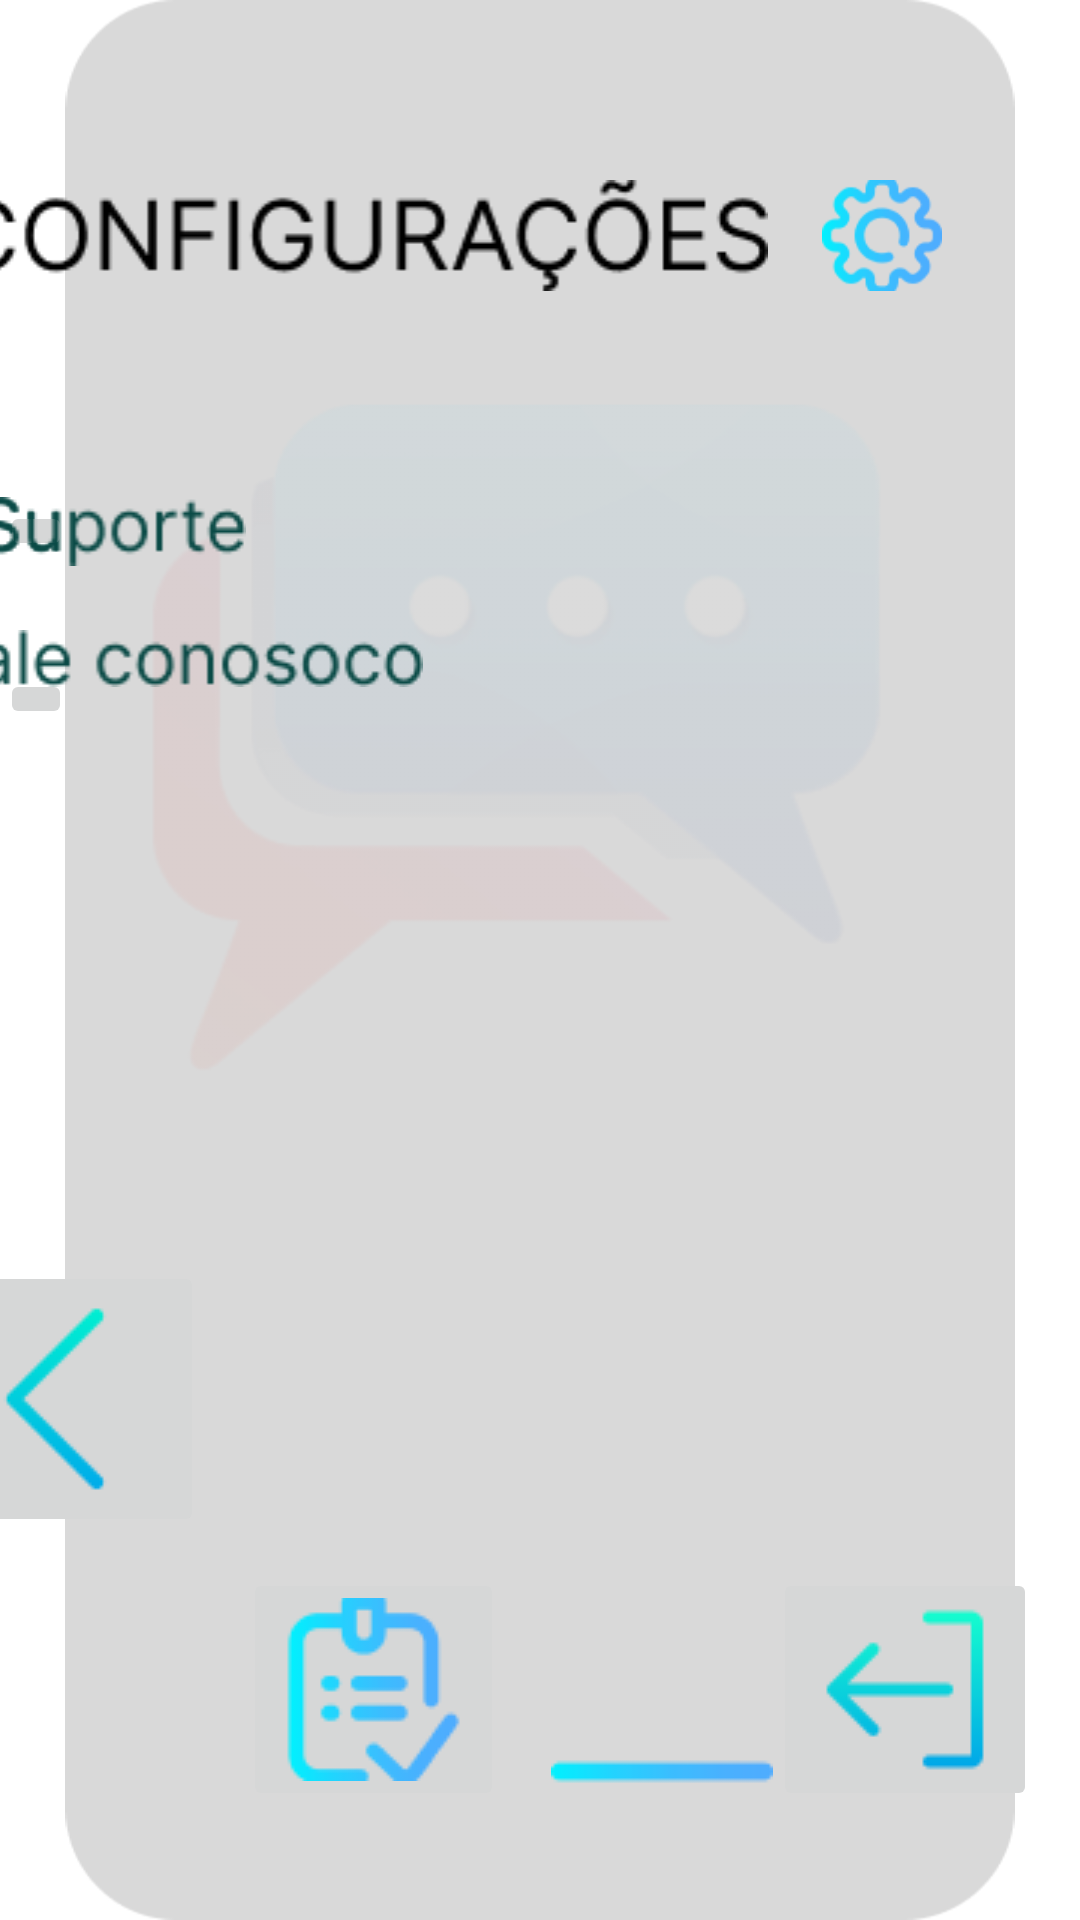

Screen size 1080x1920. Icon name, then its box in pixels as (x1,y1,x2,y2):
iconeconfiguracao: (822,180,942,291)
iconelist: (287,1598,460,1781)
iconesair: (826,1609,984,1770)
